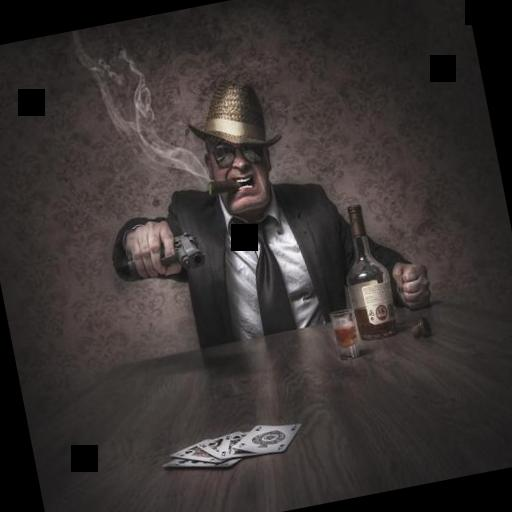Handgun: (155, 226, 207, 275)
